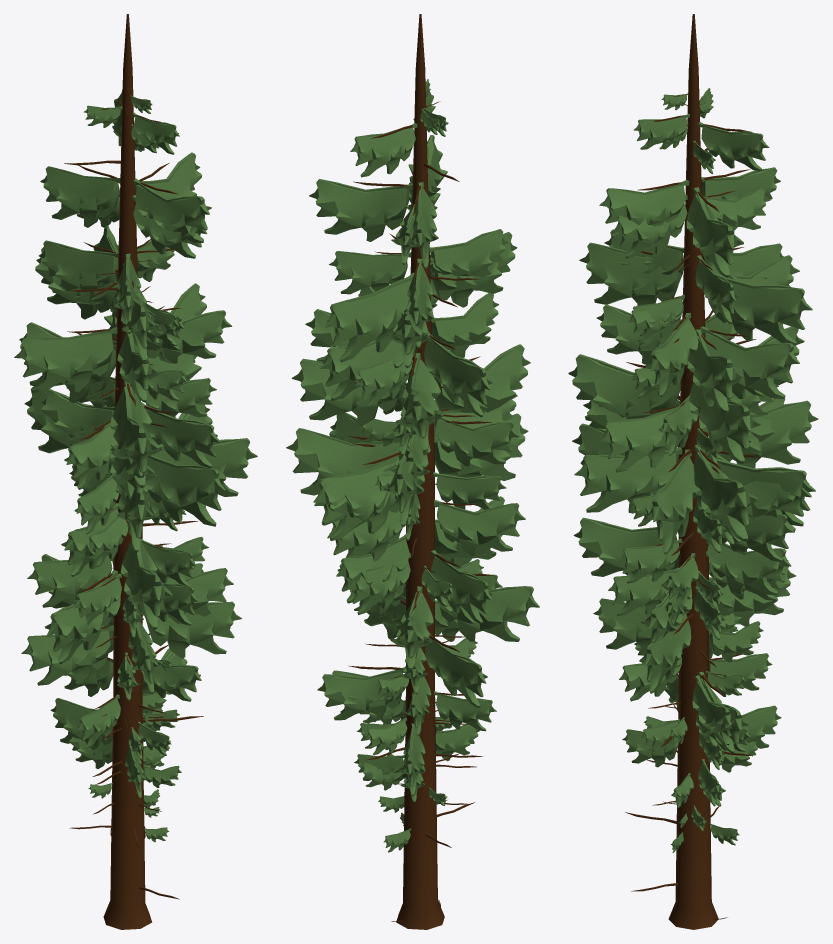
The model's file is SM_PineTree.fbx.
3 renders of one model, left to right at view 1: azimuth 30°, elevation 25°; view 2: azimuth 150°, elevation 25°; view 3: azimuth 270°, elevation 25°, orthographic.
Parts seen in each view (by area): view 1: SM_PineTree; view 2: SM_PineTree; view 3: SM_PineTree.
Boxes of the visible parts, left/top/right/bottom form: SM_PineTree: left=14, top=14, right=257, bottom=929; SM_PineTree: left=286, top=14, right=539, bottom=929; SM_PineTree: left=568, top=14, right=818, bottom=929.
Size of what is drawn, in the model's own units: 2.24 by 9.21 by 2.31.
